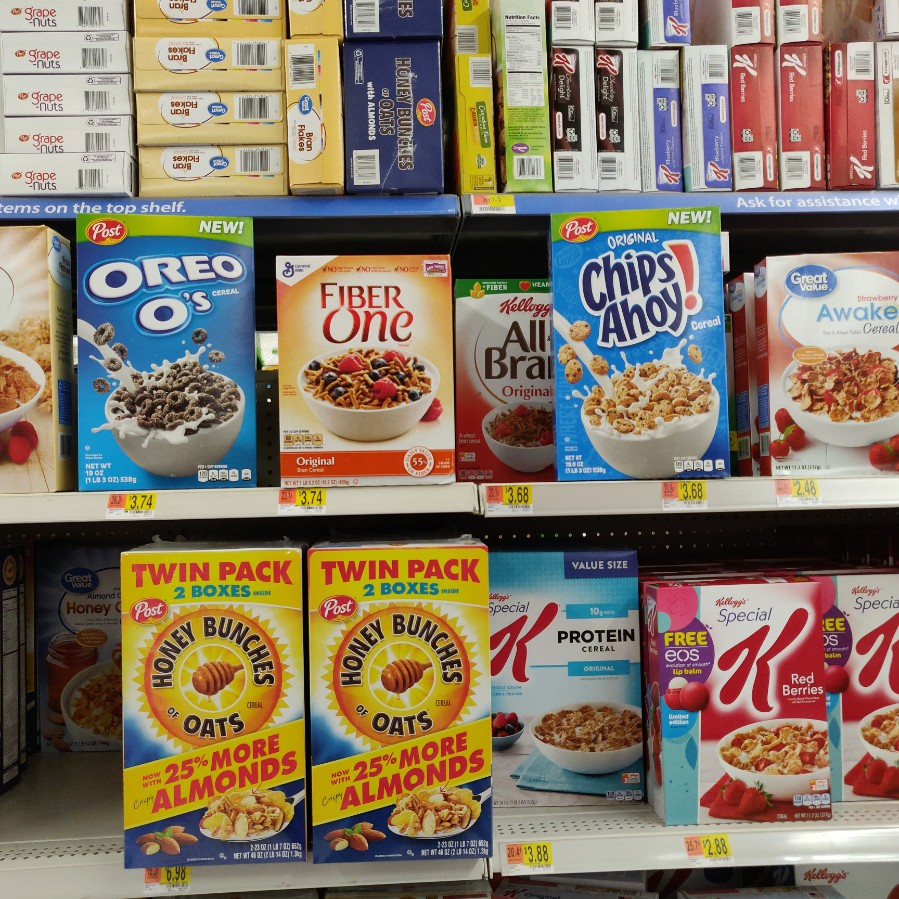Chips Ahoys-565717529: (549, 213, 731, 471)
Oreo-563424384: (71, 210, 267, 483)
